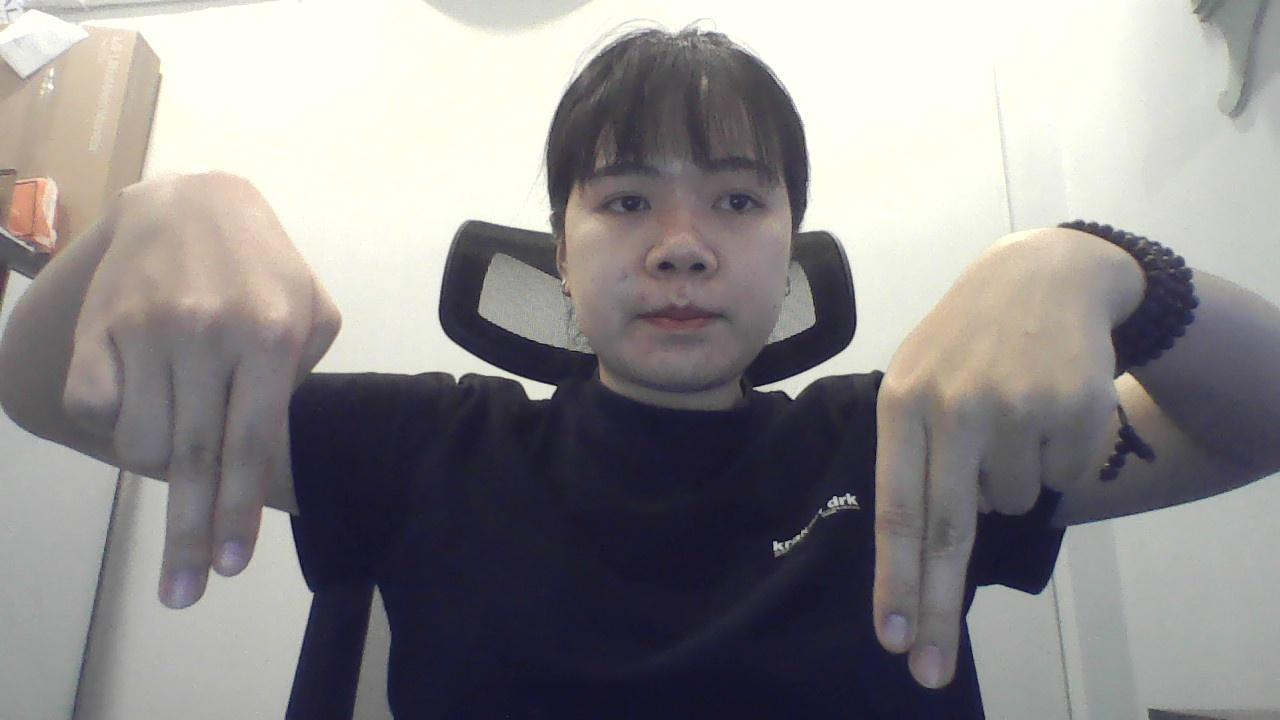N: (850, 264, 1131, 707), (62, 197, 339, 627)
